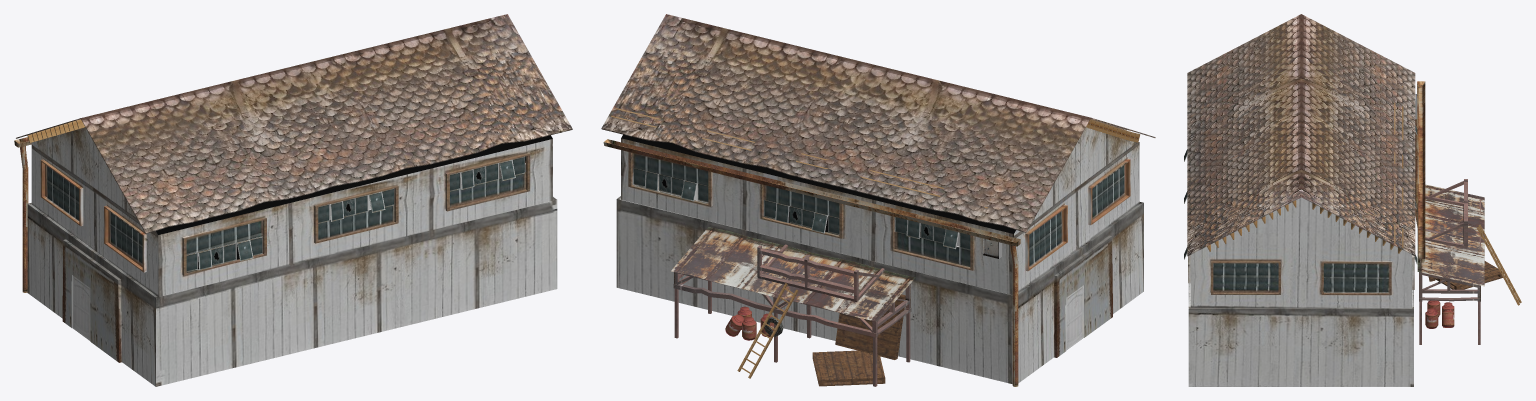
The model's file is old-warehouse.glb.
The picture shows the model from 3 angles, left to right: view 1: azimuth 30°, elevation 25°; view 2: azimuth 150°, elevation 25°; view 3: azimuth 270°, elevation 25°; orthographic projection. The views are drawn at different scales.
Parts seen in each view (by area): view 1: Warehouse House, Warehouse Roof, Warehouse Window, Warehouse Water_hows, Warehouse Roof_wood; view 2: Warehouse House, Warehouse Roof, Warehouse Metal_roof, Warehouse Metal_Rim, Warehouse Water_hows, Warehouse Wood_Board, Warehouse Window, Warehouse Roof_wood, Warehouse Gas_Cylinder, Warehouse Wood_ladder; view 3: Warehouse Roof, Warehouse House, Warehouse Metal_roof, Warehouse Metal_Rim, Warehouse Water_hows, Warehouse Roof_wood, Warehouse Gas_Cylinder, Warehouse Wood_Board, Warehouse Wood_ladder.
Boxes of the visible parts, x1,y1,x2,y2 form: Warehouse House: (27,127,557,386); Warehouse Roof: (16,14,572,233); Warehouse Window: (186,156,524,271); Warehouse Water_hows: (14,137,34,292); Warehouse Roof_wood: (27,119,137,219); Warehouse House: (616,127,1143,383); Warehouse Roof: (601,14,1155,232); Warehouse Metal_roof: (671,227,915,321); Warehouse Metal_Rim: (673,244,911,386); Warehouse Water_hows: (603,139,1020,386); Warehouse Wood_Board: (812,294,905,386); Warehouse Window: (633,168,970,249); Warehouse Roof_wood: (611,108,1140,208); Warehouse Gas_Cylinder: (725,306,773,340); Warehouse Wood_ladder: (737,283,798,378); Warehouse Roof: (1187,14,1415,256); Warehouse House: (1188,197,1414,386); Warehouse Metal_roof: (1417,184,1484,286); Warehouse Metal_Rim: (1419,179,1480,344); Warehouse Water_hows: (1415,81,1425,262); Warehouse Roof_wood: (1207,82,1403,253); Warehouse Gas_Cylinder: (1425,300,1454,328); Warehouse Wood_Board: (1415,206,1503,289); Warehouse Wood_ladder: (1477,224,1521,305).
Bounding box in the file's own units: 21.05 × 10.61 × 16.46.
Materials: 12 (12 with a texture image).
